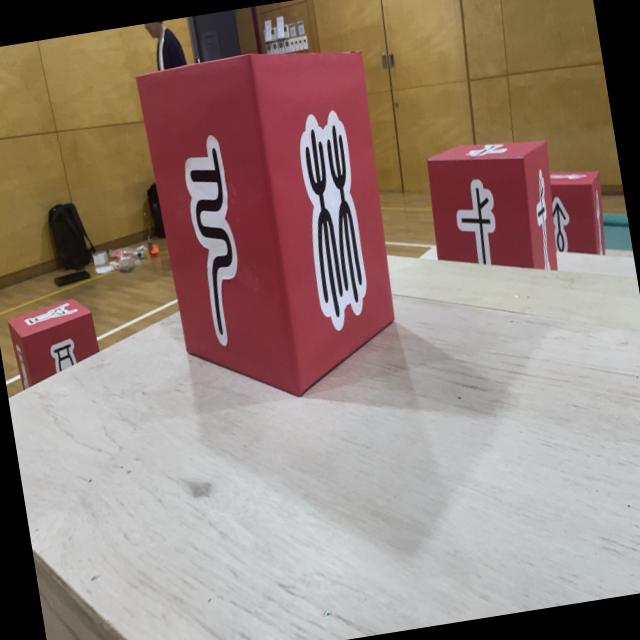12: (546, 192, 576, 254)
2: (288, 108, 378, 336)
4: (178, 130, 255, 350)
8: (21, 298, 80, 330), (47, 338, 79, 373)
9: (450, 177, 504, 270), (529, 168, 560, 272)
fighter: (135, 36, 414, 414), (420, 130, 567, 290), (5, 294, 104, 393), (544, 163, 613, 262)
